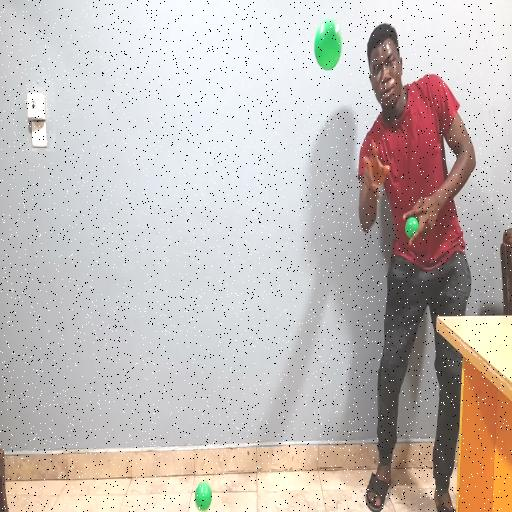plastic-ball: (312, 19, 344, 75)
